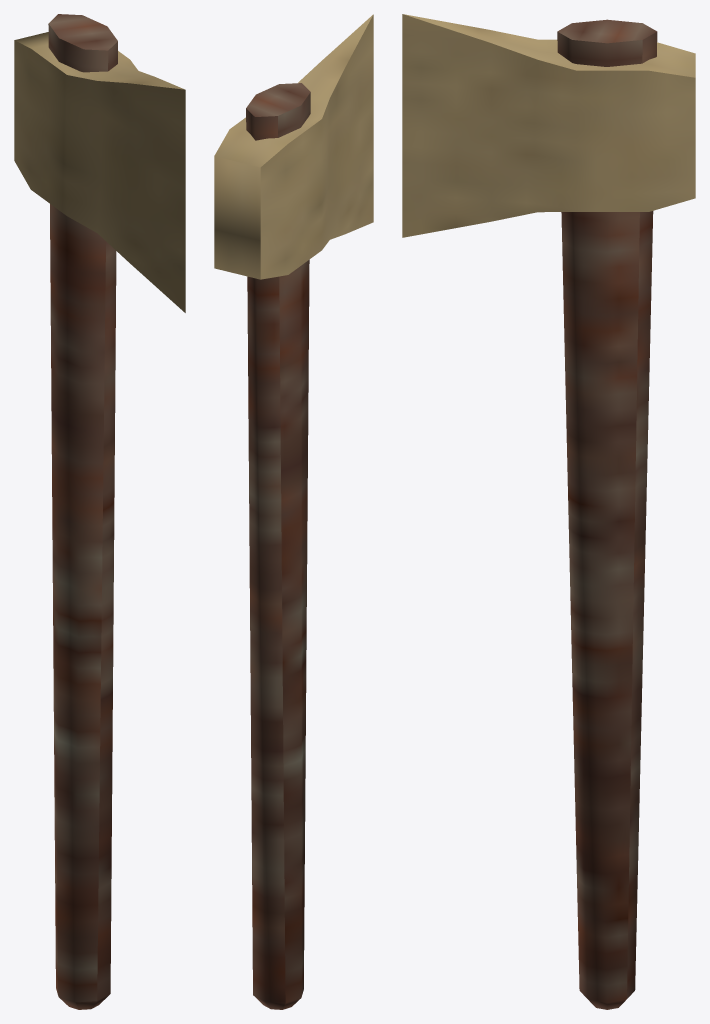
The model's file is Axe.fbx.
3 views of the same model, side by side, from view 1: azimuth 30°, elevation 25°; view 2: azimuth 150°, elevation 25°; view 3: azimuth 270°, elevation 25° (orthographic). The views are drawn at different scales.
Parts seen in each view (by area): view 1: Cube.019; view 2: Cube.019; view 3: Cube.019.
Boxes of the visible parts, <box> form: Cube.019: <box>14,14,185,1009</box>; Cube.019: <box>214,14,373,1009</box>; Cube.019: <box>402,14,695,1009</box>.
Bounding box in the file's own units: 4.65 × 69.47 × 18.66.
